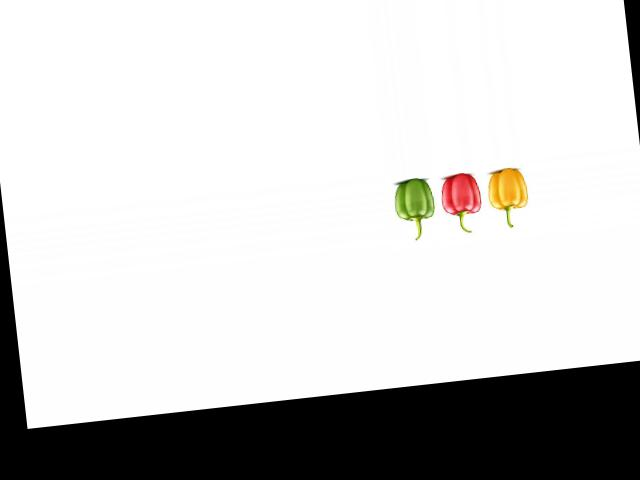bell_pepper: (387, 173, 437, 242)
